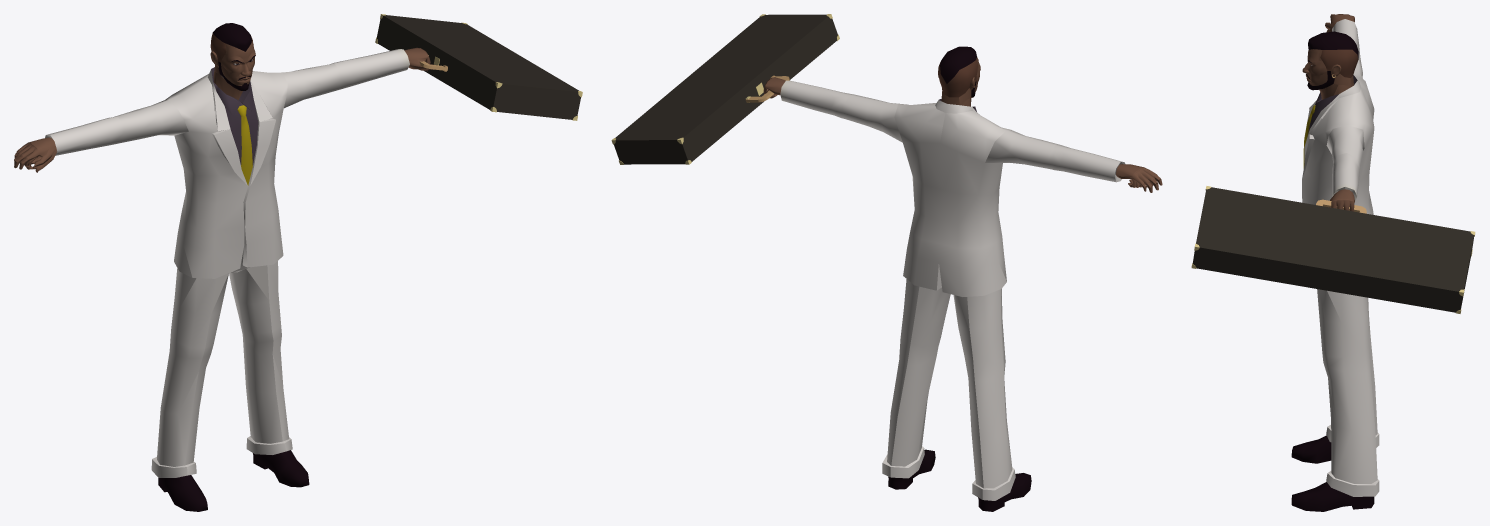
Rendered from SM_Garcian.fbx.
3 views of the same model, side by side, from view 1: azimuth 30°, elevation 25°; view 2: azimuth 150°, elevation 25°; view 3: azimuth 270°, elevation 25° (orthographic). The views are drawn at different scales.
Visible parts, largest first — view 1: Joint_37_Object_0_SINGLE, Joint_20_Object_1_SINGLE, Joint_26_Object_0_SINGLE, Joint_25_Object_0_SINGLE, Joint_12_Object_0_SINGLE; view 2: Joint_37_Object_0_SINGLE, Joint_20_Object_1_SINGLE, Joint_25_Object_0_SINGLE; view 3: Joint_20_Object_1_SINGLE, Joint_37_Object_0_SINGLE, Joint_25_Object_0_SINGLE, Joint_26_Object_0_SINGLE, Joint_20_Object_0_SINGLE.
Boxes of the visible parts, <box> form: Joint_37_Object_0_SINGLE: <box>45,49,409,511</box>; Joint_20_Object_1_SINGLE: <box>375,14,582,120</box>; Joint_26_Object_0_SINGLE: <box>218,41,255,90</box>; Joint_25_Object_0_SINGLE: <box>210,23,252,67</box>; Joint_12_Object_0_SINGLE: <box>14,141,56,169</box>; Joint_37_Object_0_SINGLE: <box>780,80,1125,511</box>; Joint_20_Object_1_SINGLE: <box>611,14,839,164</box>; Joint_25_Object_0_SINGLE: <box>938,46,977,97</box>; Joint_20_Object_1_SINGLE: <box>1191,186,1475,313</box>; Joint_37_Object_0_SINGLE: <box>1291,19,1379,511</box>; Joint_25_Object_0_SINGLE: <box>1308,31,1358,78</box>; Joint_26_Object_0_SINGLE: <box>1302,49,1334,90</box>; Joint_20_Object_0_SINGLE: <box>1329,189,1354,211</box>.
Size of the model in its own units: 22.56 by 19.27 by 11.07.
